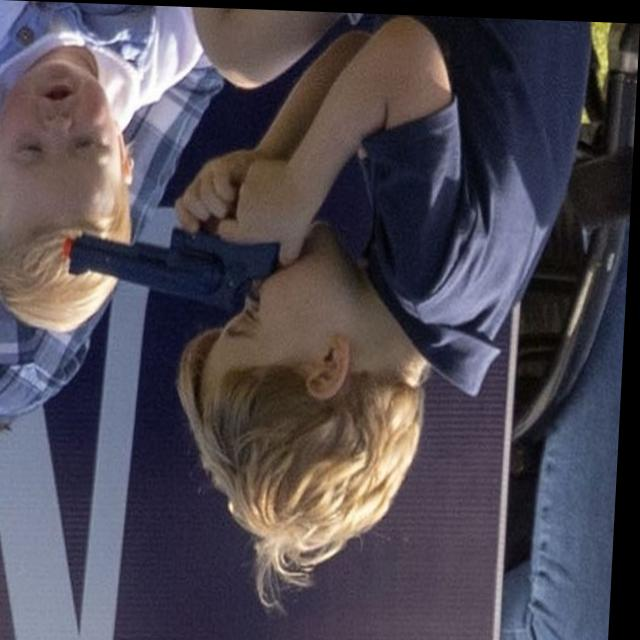handgun: (68, 207, 278, 308)
